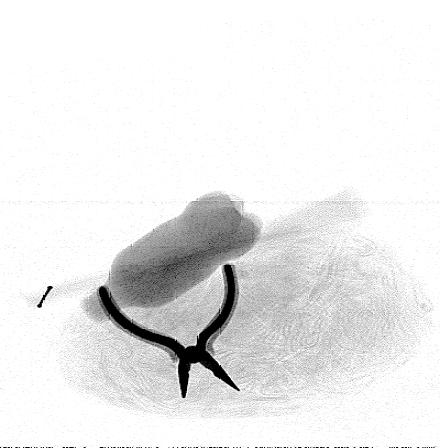Pliers: (95, 263, 241, 400)
